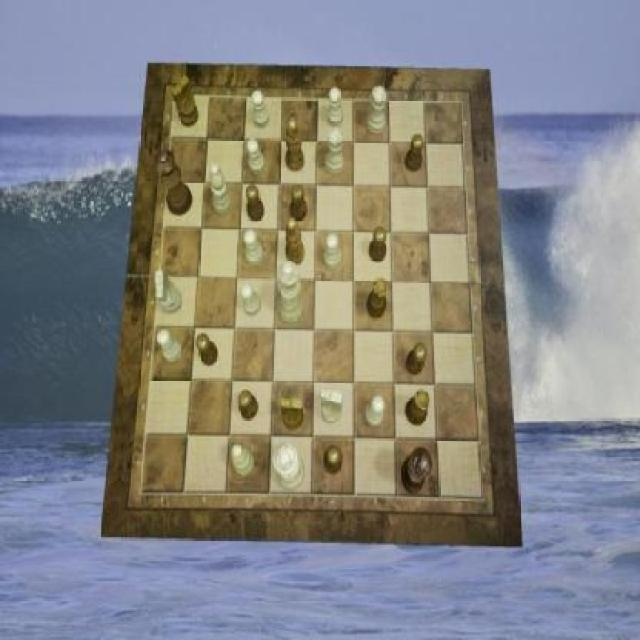bishop: (286, 119, 306, 172), (286, 219, 306, 266)
black-bishop: (401, 448, 434, 494)
black-king: (171, 75, 198, 128), (280, 397, 304, 431)
black-knight: (195, 334, 218, 368), (404, 134, 424, 171), (247, 184, 266, 220), (406, 345, 427, 377), (290, 184, 308, 220), (369, 228, 387, 262), (238, 391, 258, 420), (325, 446, 342, 476)
black-pawn: (155, 150, 193, 216)
black-queen: (366, 277, 389, 318), (406, 390, 431, 426)
black-rook: (211, 162, 234, 216), (230, 442, 254, 476)
white-bishop: (274, 443, 306, 491)
white-king: (157, 270, 183, 314), (320, 388, 343, 424)
white-knight: (157, 329, 181, 363), (244, 230, 264, 266), (247, 138, 266, 174), (252, 91, 270, 129), (242, 283, 262, 317), (366, 395, 386, 428), (325, 234, 342, 270), (328, 88, 343, 128)
white-pawn: (277, 260, 304, 322)
white-queen: (368, 86, 388, 136), (326, 128, 346, 175)
